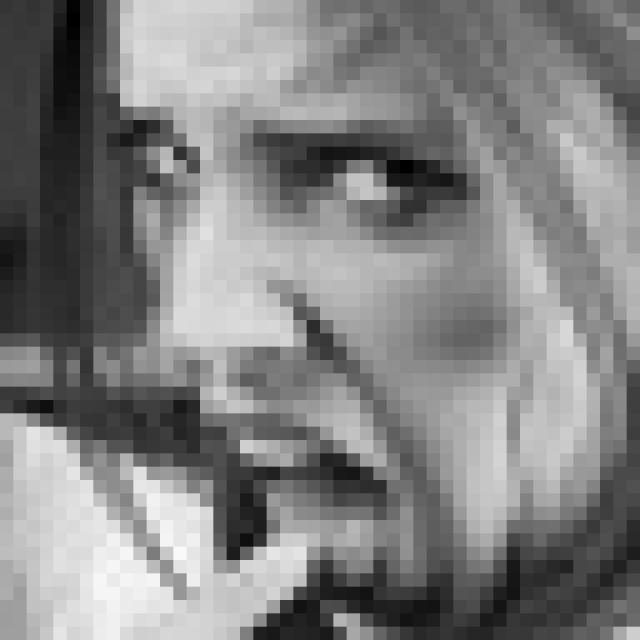disgust: (112, 105, 473, 608)
